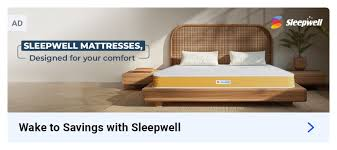bed-matress: (151, 60, 296, 89)
